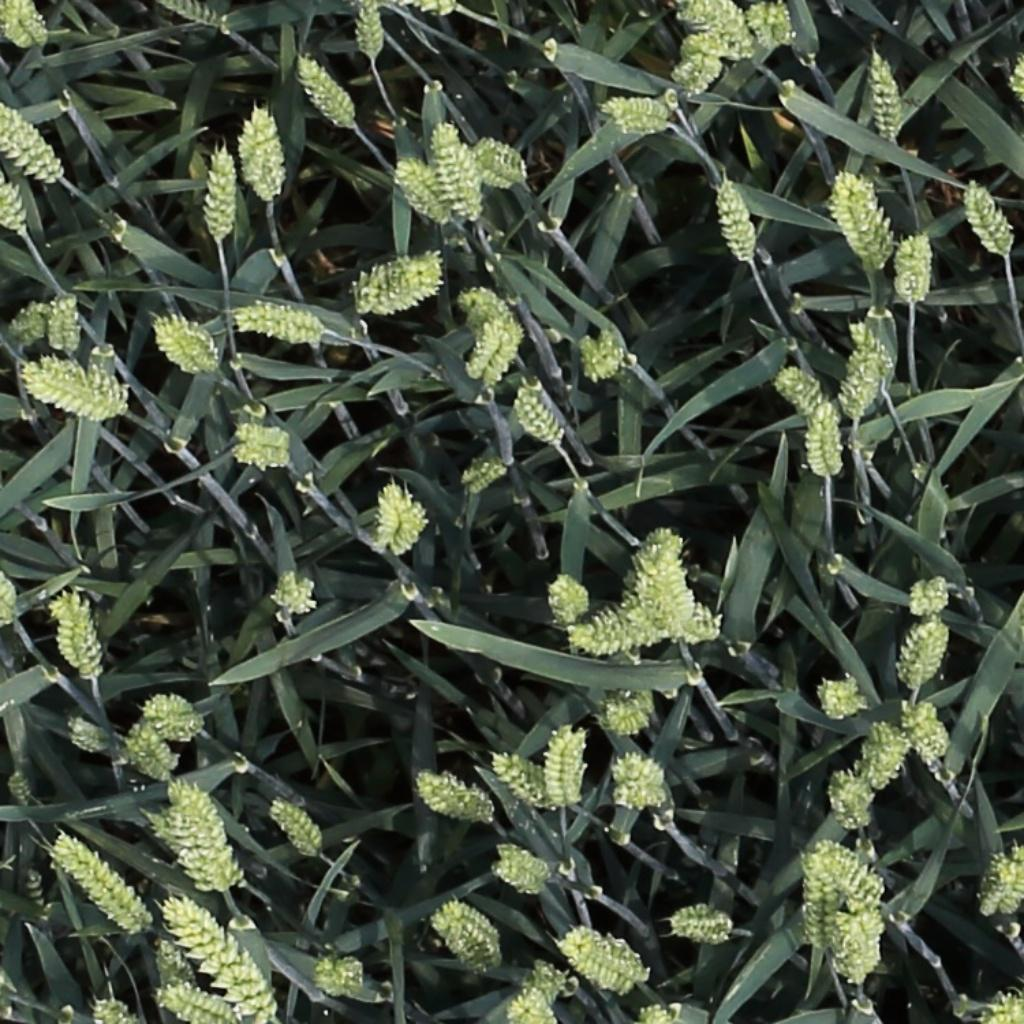0-0: (165, 897, 278, 1015), (50, 831, 152, 935), (16, 348, 134, 431), (166, 774, 248, 886), (623, 522, 702, 635), (552, 922, 663, 1001), (824, 165, 900, 275), (343, 244, 453, 320), (148, 802, 236, 892), (39, 574, 103, 684), (832, 316, 898, 421), (236, 99, 296, 207), (231, 298, 344, 354), (810, 841, 895, 915), (572, 598, 670, 660), (824, 899, 887, 992), (293, 49, 361, 132), (793, 840, 842, 954), (0, 102, 63, 188), (675, 0, 762, 57), (893, 613, 951, 695), (963, 174, 1017, 260), (131, 688, 209, 746), (853, 722, 914, 796), (641, 597, 724, 648), (476, 312, 525, 398), (393, 157, 453, 225), (718, 170, 760, 266), (434, 910, 498, 972), (424, 120, 464, 218), (417, 774, 495, 824), (667, 899, 743, 950), (267, 798, 326, 862), (768, 361, 832, 420), (671, 41, 737, 98), (513, 380, 567, 449), (154, 316, 217, 374), (473, 128, 531, 191), (825, 768, 877, 836), (899, 700, 951, 768), (868, 45, 903, 146), (592, 94, 672, 138), (491, 755, 552, 811), (59, 707, 120, 763), (594, 687, 665, 735), (890, 225, 932, 305), (458, 274, 513, 335), (201, 141, 233, 245), (803, 400, 844, 481), (264, 563, 323, 619), (378, 479, 420, 557), (154, 932, 202, 999), (439, 903, 502, 954), (122, 722, 177, 780), (812, 671, 872, 722), (236, 424, 294, 474), (452, 137, 484, 225), (158, 988, 234, 1024), (578, 327, 622, 385), (550, 719, 578, 810), (973, 844, 1006, 921), (499, 986, 564, 1024), (0, 167, 32, 237), (314, 957, 367, 999), (21, 862, 50, 937), (907, 572, 953, 619), (748, 1, 793, 49), (498, 846, 555, 883), (997, 839, 1024, 916), (8, 0, 50, 47), (51, 285, 77, 360), (753, 768, 777, 848), (1, 1, 39, 51), (357, 0, 383, 66), (167, 0, 228, 28), (492, 862, 544, 894), (362, 0, 466, 16), (5, 764, 35, 816), (0, 567, 22, 636), (464, 460, 510, 492), (6, 307, 51, 339), (90, 995, 133, 1024), (1006, 49, 1024, 108), (638, 1003, 674, 1024)
